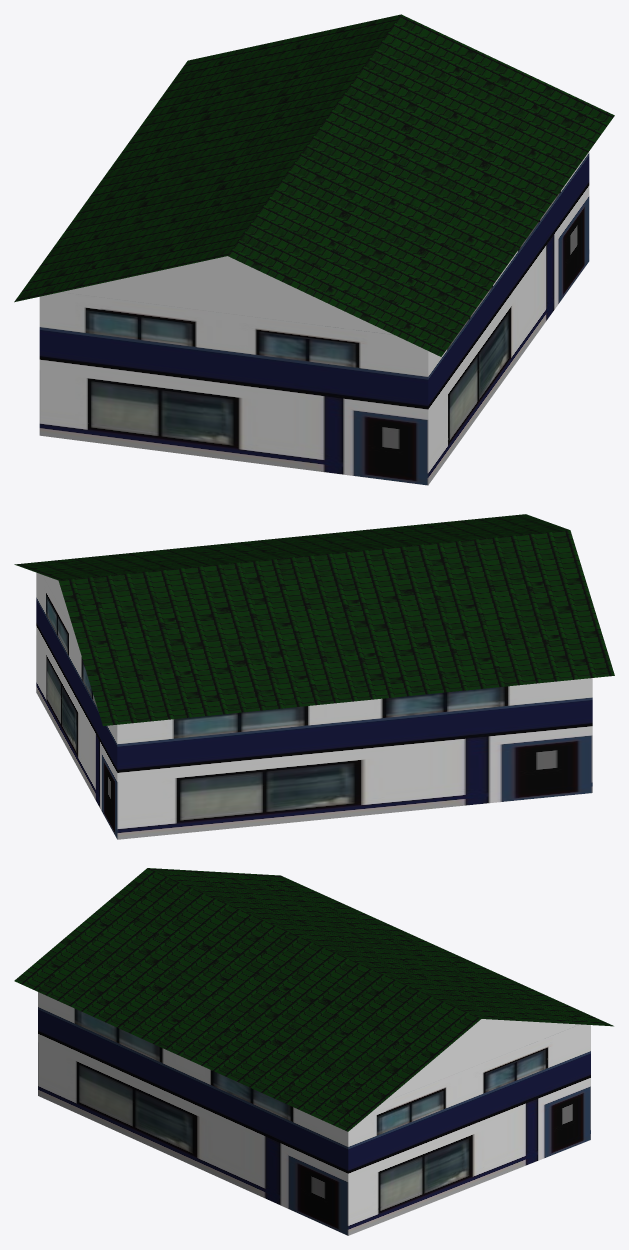
3 renders of one model, top to bottom at view 1: azimuth 30°, elevation 25°; view 2: azimuth 150°, elevation 25°; view 3: azimuth 270°, elevation 25°, orthographic. The views are drawn at different scales.
Parts seen in each view (by area): view 1: CityEngineMaterial_13_m, CityEngineMaterial_2_m, CityEngineMaterial_3_m; view 2: CityEngineMaterial_13_m, CityEngineMaterial_2_m; view 3: CityEngineMaterial_13_m, CityEngineMaterial_2_m, CityEngineMaterial_3_m.
Part boxes in pixels (x1=…): CityEngineMaterial_13_m: x1=14, y1=14, x2=614, y2=356; CityEngineMaterial_2_m: x1=39, y1=151, x2=589, y2=485; CityEngineMaterial_3_m: x1=61, y1=256, x2=393, y2=334; CityEngineMaterial_13_m: x1=14, y1=514, x2=614, y2=725; CityEngineMaterial_2_m: x1=36, y1=572, x2=592, y2=839; CityEngineMaterial_13_m: x1=14, y1=868, x2=613, y2=1131; CityEngineMaterial_2_m: x1=38, y1=992, x2=590, y2=1235; CityEngineMaterial_3_m: x1=383, y1=1019, x2=579, y2=1102.
Bounding box in the file's own units: 34.54 × 10.96 × 34.21.
